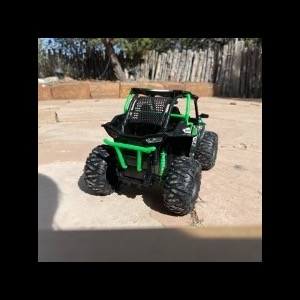polaris: (81, 86, 219, 218)
